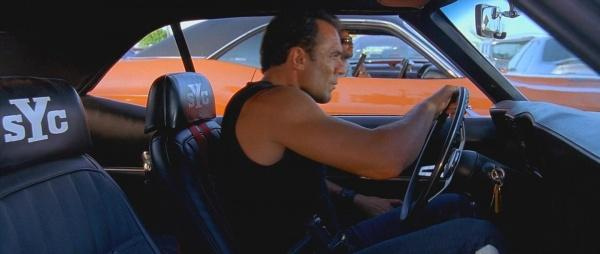Gun: (352, 54, 370, 79)
